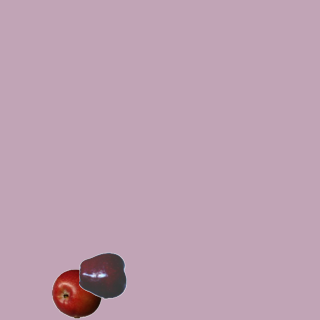Apple Braeburn: (51, 268, 101, 318)
Apple Red Delicious: (78, 250, 128, 300)
